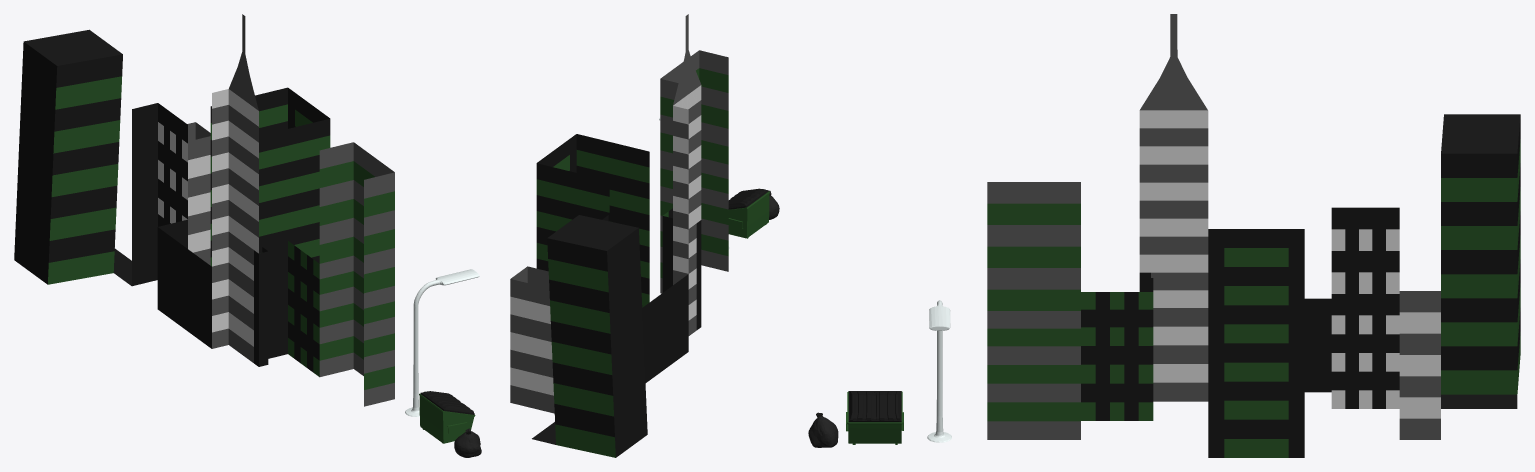
Rendered from cyberOutsidemodels.fbx.
3 views of the same model, side by side, from view 1: azimuth 30°, elevation 25°; view 2: azimuth 150°, elevation 25°; view 3: azimuth 270°, elevation 25° (orthographic). The views are drawn at different scales.
Parts seen in each view (by area): view 1: cityBackdrop, dumpster, lamp_post, trash bag; view 2: cityBackdrop, dumpster; view 3: cityBackdrop, dumpster, lamp_post, trash bag.
Boxes of the visible parts, x1,y1,x2,y2 form: cityBackdrop: (14,14,394,406); dumpster: (419,391,475,443); lamp_post: (405,269,479,416); trash bag: (454,428,481,457); cityBackdrop: (510,14,728,457); dumpster: (728,188,769,238); cityBackdrop: (987,14,1520,457); dumpster: (846,391,903,444); lamp_post: (927,300,951,442); trash bag: (808,412,838,447).
Size of the model in its own units: 4047 by 6473 by 10667.
